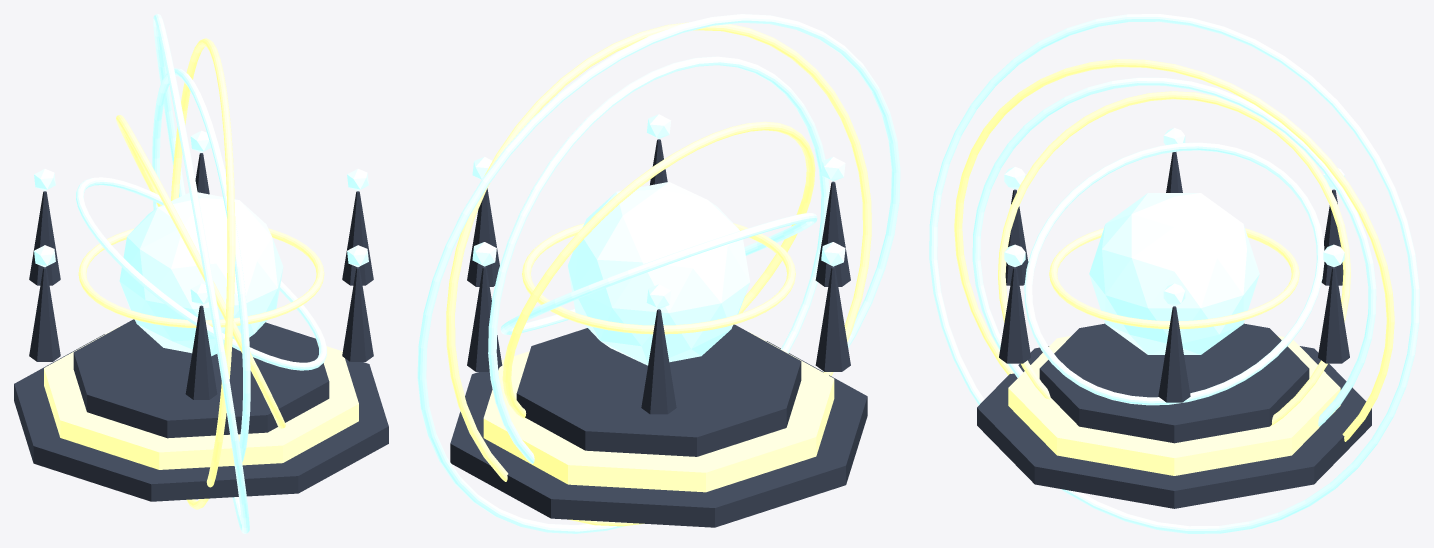
The model's file is gpu-blender-v20.glb.
The picture shows the model from 3 angles, left to right: view 1: azimuth 30°, elevation 25°; view 2: azimuth 150°, elevation 25°; view 3: azimuth 270°, elevation 25°; orthographic projection. The views are drawn at different scales.
Visible parts, largest first — view 1: Cylinder.002, Cylinder, SovereignCore_cyber-turtle-studio, Cylinder.001, Torus.005, Torus.004, Torus.003, Torus.001, Torus, Torus.002, Cone.003, Cone.005 (+3 smaller); view 2: Cylinder.002, SovereignCore_cyber-turtle-studio, Cylinder, Cylinder.001, Torus.005, Torus.004, Torus.003, Torus.002, Torus.001, Torus, Cone.002, Cone.003 (+3 smaller); view 3: SovereignCore_cyber-turtle-studio, Cylinder.002, Cylinder, Cylinder.001, Torus.005, Torus.004, Torus.001, Torus.003, Torus.002, Torus, Cone, Cone.001 (+3 smaller).
Boxes of the visible parts, left/top/right/bottom form: Cylinder.002: left=73, top=319, right=329, bottom=438; Cylinder: left=14, top=334, right=388, bottom=501; SovereignCore_cyber-turtle-studio: left=119, top=192, right=283, bottom=356; Cylinder.001: left=44, top=326, right=358, bottom=469; Torus.005: left=153, top=14, right=249, bottom=533; Torus.004: left=171, top=38, right=235, bottom=509; Torus.003: left=152, top=68, right=250, bottom=461; Torus.001: left=76, top=177, right=326, bottom=370; Torus: left=78, top=228, right=324, bottom=327; Torus.002: left=116, top=115, right=285, bottom=428; Cone.003: left=29, top=267, right=60, bottom=361; Cone.005: left=342, top=267, right=373, bottom=361; Cylinder.002: left=516, top=324, right=801, bottom=456; SovereignCore_cyber-turtle-studio: left=568, top=182, right=749, bottom=365; Cylinder: left=450, top=341, right=867, bottom=527; Cylinder.001: left=483, top=332, right=834, bottom=492; Torus.005: left=417, top=14, right=900, bottom=533; Torus.004: left=446, top=22, right=871, bottom=526; Torus.003: left=488, top=56, right=829, bottom=463; Torus.002: left=502, top=121, right=815, bottom=418; Torus.001: left=500, top=213, right=817, bottom=334; Torus: left=522, top=223, right=795, bottom=334; Cone.002: left=641, top=309, right=676, bottom=414; Cone.003: left=815, top=267, right=850, bottom=371; SovereignCore_cyber-turtle-studio: left=1089, top=193, right=1259, bottom=354; Cylinder.002: left=1039, top=323, right=1309, bottom=443; Cylinder: left=977, top=346, right=1371, bottom=508; Cylinder.001: left=1008, top=336, right=1340, bottom=475; Torus.005: left=929, top=14, right=1419, bottom=533; Torus.004: left=954, top=59, right=1394, bottom=441; Torus.001: left=1024, top=142, right=1324, bottom=405; Torus.003: left=972, top=77, right=1376, bottom=426; Torus.002: left=998, top=91, right=1350, bottom=425; Torus: left=1049, top=228, right=1299, bottom=328; Cone: left=1158, top=306, right=1190, bottom=402; Cone.001: left=1318, top=267, right=1349, bottom=363.
Size of the model in its own units: 4.41 by 5.93 by 5.46.
